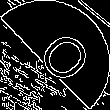O_SW: (21, 21, 89, 89)
